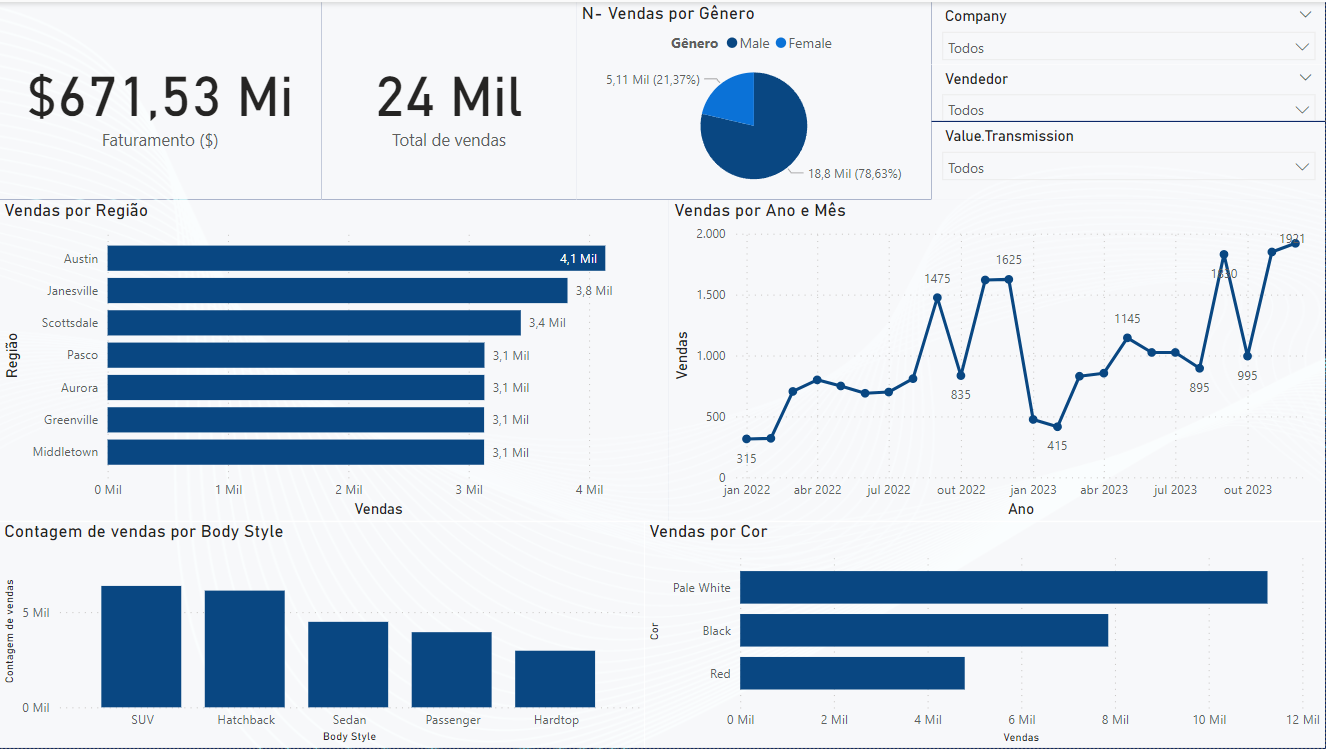

The dashboard page shown, as its layout file describes it:
{"tool":"powerbi","page":{"name":"DashBoard - Vendas","canvas":[1280,720],"ordinal":0},"visuals":[{"type":"lineChart","fields":{"Y":["CountNonNull(carsales.Value.Car_id)"],"Category":["carsales.Value.Date.Variation.Hierarquia de datas.Ano","carsales.Value.Date.Variation.Hierarquia de datas.Mês"]},"box":[646.6,190.1,633.6,311],"z":0},{"type":"pieChart","title":"N- Vendas por Gênero","fields":{"Y":["CountNonNull(carsales.Value.Gender)"],"Category":["carsales.Value.Gender"]},"box":[557.3,0,342.7,190.1],"z":1},{"type":"barChart","fields":{"Category":["carsales.Value.Dealer_Region"],"Y":["CountNonNull(carsales.Value.Car_id)"]},"box":[0,190.1,646.6,311],"z":2},{"type":"barChart","fields":{"Category":["carsales.Value.Color"],"Y":["CountNonNull(carsales.Value.Car_id)"]},"box":[622.6,500.9,657.4,219.1],"z":3},{"type":"card","fields":{"Values":["Sum(carsales.Value.Price ($))"]},"box":[0,0,311,190.1],"z":4},{"type":"card","fields":{"Values":["carsales.total_vendas"]},"box":[311,0,246.2,190.1],"z":6},{"type":"columnChart","fields":{"Category":["carsales.Value.Body Style"],"Y":["CountNonNull(carsales.Value.Body Style)"]},"box":[0,501,623,219],"z":7},{"type":"slicer","fields":{"Values":["carsales.Value.Company"]},"box":[900,0,380.2,60.5],"z":8},{"type":"slicer","fields":{"Values":["carsales.Value.Customer Name"]},"box":[900,60.5,380.2,54.7],"z":9},{"type":"slicer","fields":{"Values":["carsales.Value.Transmission"]},"box":[900,115.2,380.2,74.9],"z":10}]}

Visuals, with their boxes in screenshot pixels (x1, y1, x2, y2), scaled from the page's 1280x720 canvas onto the 1326x749 screenshot:
lineChart - CountNonNull(carsales.Value.Car_id) x carsales.Value.Date.Variation.Hierarquia de datas.Ano: left=670, top=198, right=1325, bottom=521
"N- Vendas por Gênero" pieChart: left=577, top=0, right=932, bottom=198
barChart - carsales.Value.Dealer_Region x CountNonNull(carsales.Value.Car_id): left=0, top=198, right=670, bottom=521
barChart - carsales.Value.Color x CountNonNull(carsales.Value.Car_id): left=645, top=521, right=1325, bottom=748
card - Sum(carsales.Value.Price ($)): left=0, top=0, right=322, bottom=198
card - carsales.total_vendas: left=322, top=0, right=577, bottom=198
columnChart - carsales.Value.Body Style x CountNonNull(carsales.Value.Body Style): left=0, top=521, right=645, bottom=748
slicer - carsales.Value.Company: left=932, top=0, right=1325, bottom=63
slicer - carsales.Value.Customer Name: left=932, top=63, right=1325, bottom=120
slicer - carsales.Value.Transmission: left=932, top=120, right=1325, bottom=198
